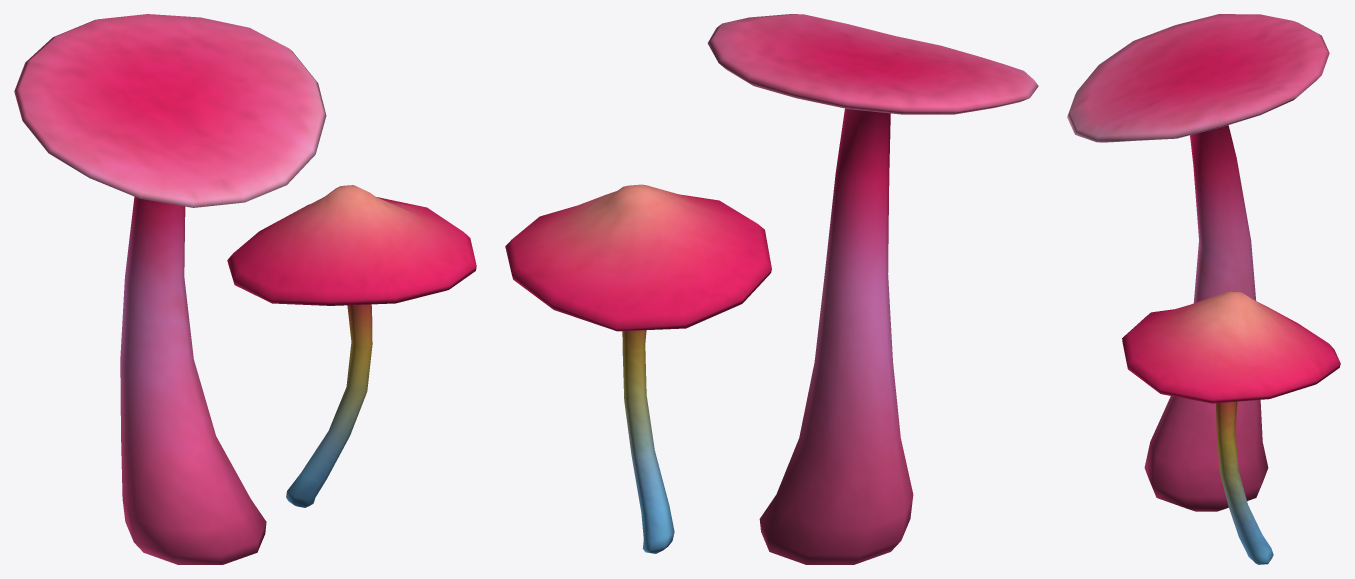
Rendered from Cartoon Seaweed_13-2-39.fbx.
3 views of the same model, side by side, from view 1: azimuth 30°, elevation 25°; view 2: azimuth 150°, elevation 25°; view 3: azimuth 270°, elevation 25° (orthographic). The views are drawn at different scales.
Visible parts, largest first — view 1: Cartoon Seaweed_13.2.39; view 2: Cartoon Seaweed_13.2.39; view 3: Cartoon Seaweed_13.2.39.
Boxes of the visible parts, bbox=[...] form: Cartoon Seaweed_13.2.39: bbox=[14, 14, 476, 564]; Cartoon Seaweed_13.2.39: bbox=[505, 14, 1038, 564]; Cartoon Seaweed_13.2.39: bbox=[1067, 14, 1340, 564].
Bounding box in the file's own units: 10.41 × 11.28 × 6.35.
Materials: 1 (1 with a texture image).
